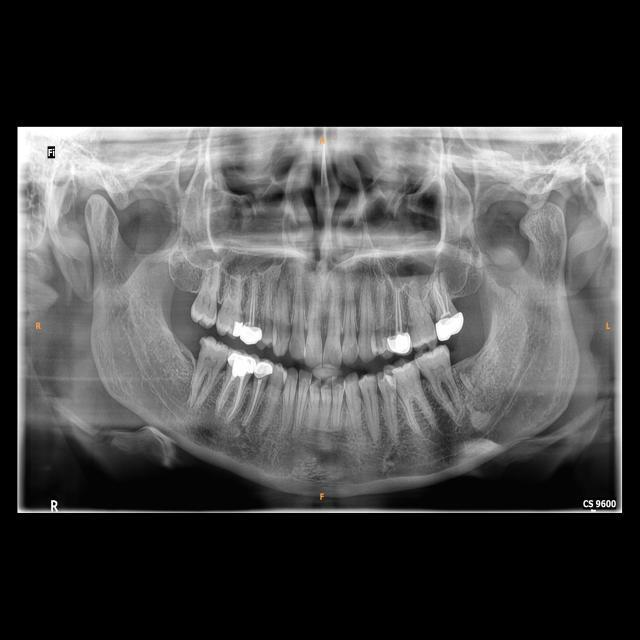dolgu: (228, 319, 243, 338)
kanal-tedavisi: (218, 381, 244, 417), (389, 286, 407, 333), (248, 377, 262, 422), (432, 283, 452, 314), (248, 284, 259, 326), (242, 322, 262, 345)
kaplama: (435, 312, 464, 341), (226, 350, 255, 378), (386, 333, 411, 353), (255, 356, 274, 380)
